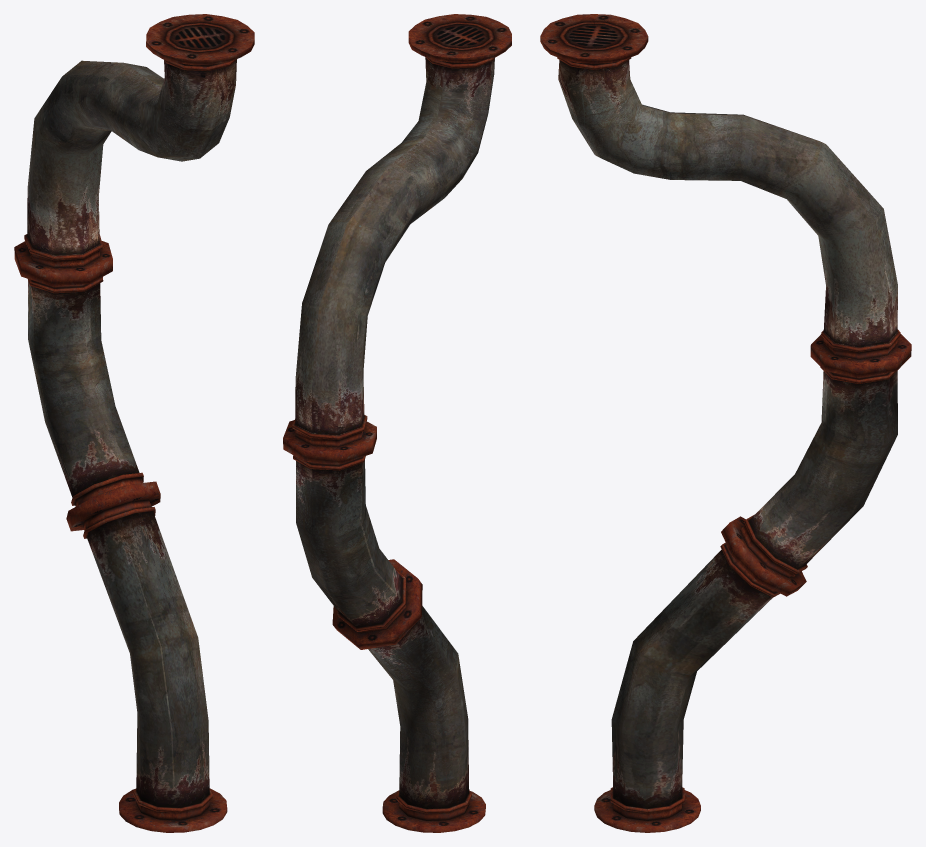
The model's file is bevelled_wall.dae.
3 views of the same model, side by side, from view 1: azimuth 30°, elevation 25°; view 2: azimuth 150°, elevation 25°; view 3: azimuth 270°, elevation 25° (orthographic). The views are drawn at different scales.
Parts seen in each view (by area): view 1: polySurface779; view 2: polySurface779; view 3: polySurface779.
Boxes of the visible parts, x1,y1,x2,y2 form: polySurface779: (14,14,254,832); polySurface779: (283,14,511,832); polySurface779: (540,14,911,832).
Bounding box in the file's own units: 0.4983 × 4 × 1.74.
